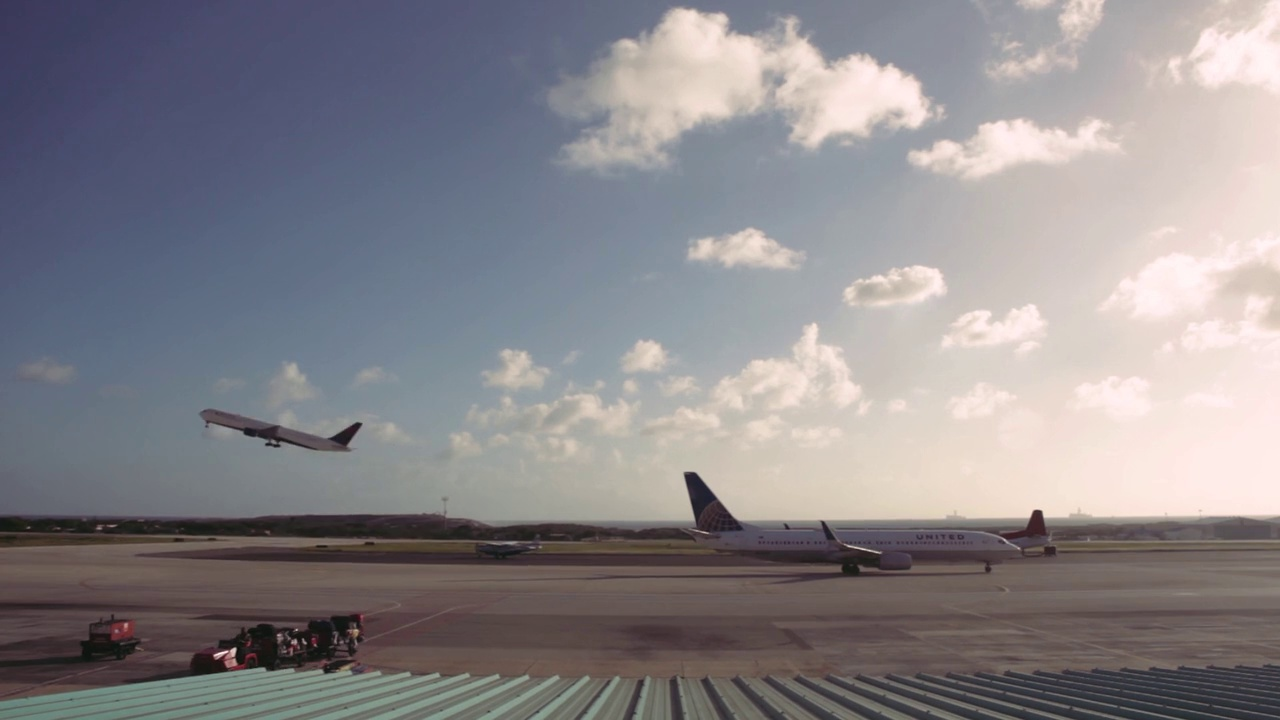plane: (678, 472, 1025, 576), (198, 406, 362, 455), (470, 536, 542, 559)
